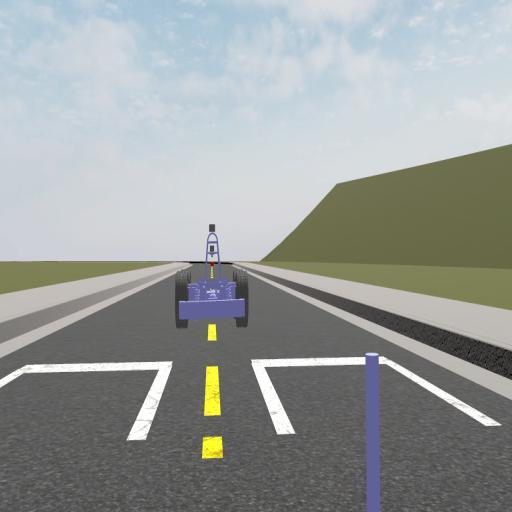ERP-42: (175, 224, 250, 328)
